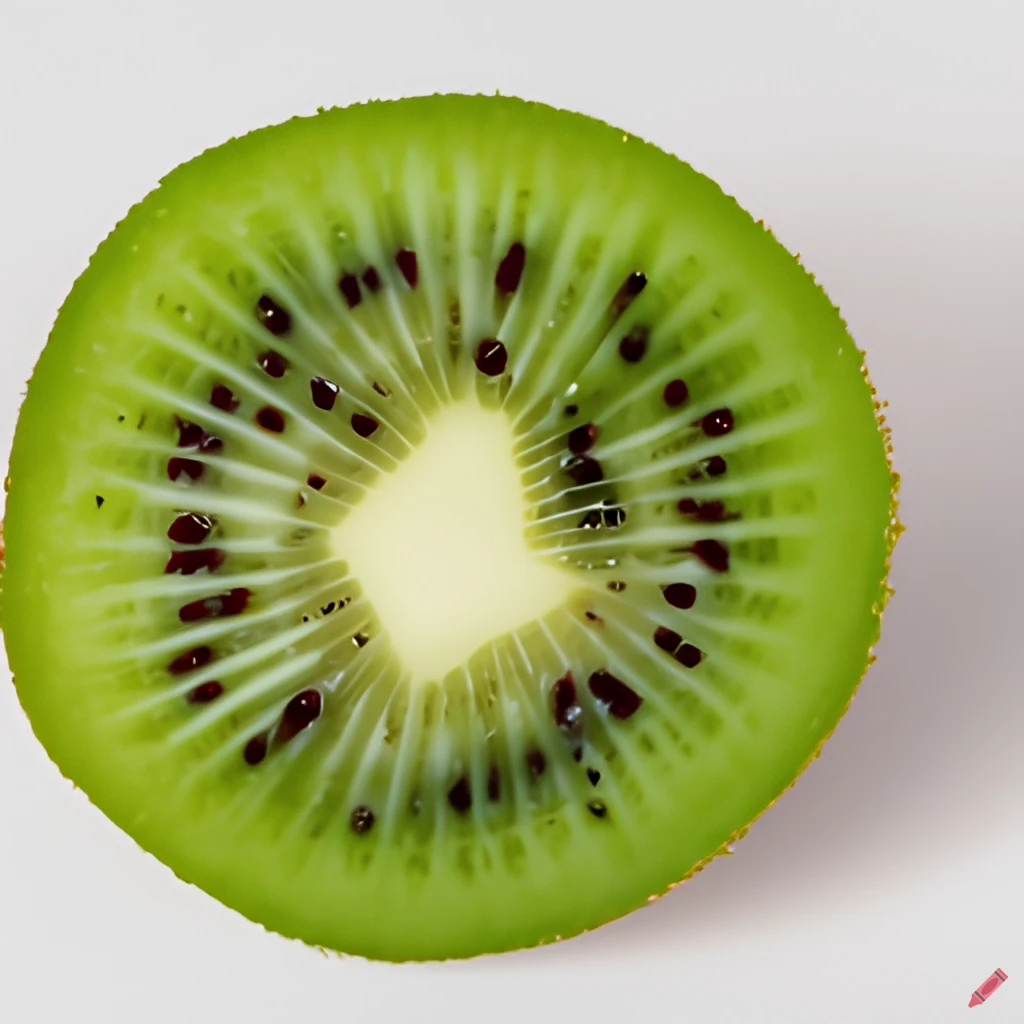Kiwi: (0, 96, 932, 954)
